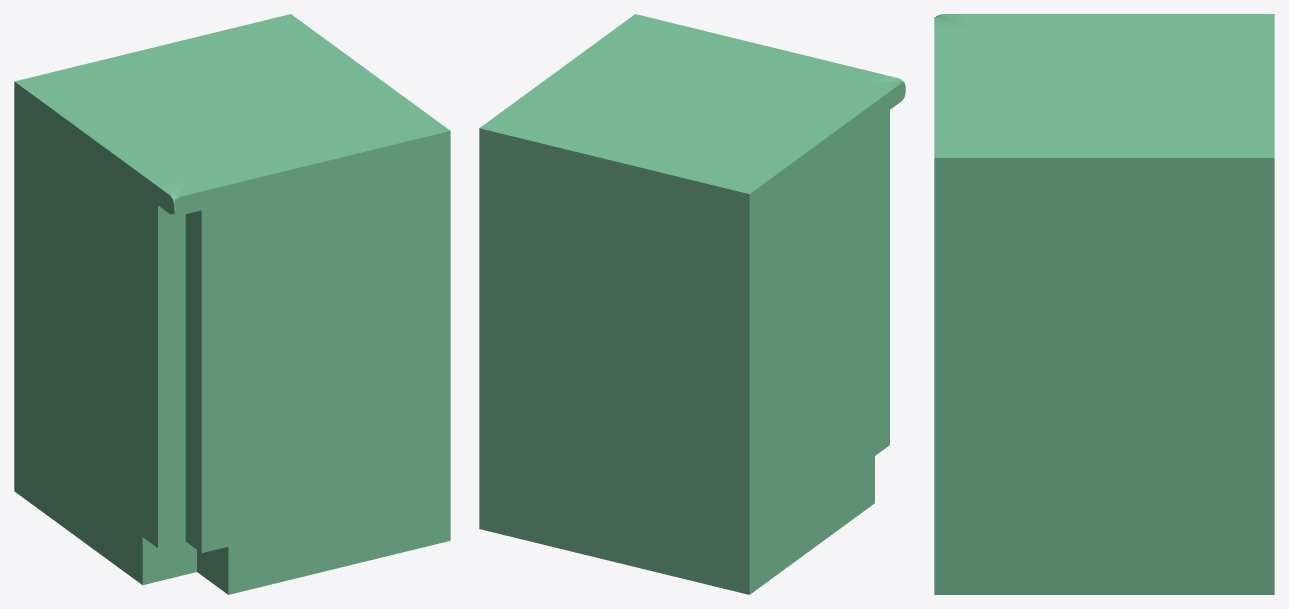
File: hospital_kitchen_module_4.fbx
3 renders of one model, left to right at view 1: azimuth 30°, elevation 25°; view 2: azimuth 150°, elevation 25°; view 3: azimuth 270°, elevation 25°, orthographic. The views are drawn at different scales.
Visible parts, largest first — view 1: hospital_kitchen_module_4; view 2: hospital_kitchen_module_4; view 3: hospital_kitchen_module_4.
Boxes of the visible parts, <box> form: hospital_kitchen_module_4: <box>14,14,450,594</box>; hospital_kitchen_module_4: <box>479,14,905,594</box>; hospital_kitchen_module_4: <box>934,14,1274,594</box>.
Bounding box in the file's own units: 60 × 85 × 60.
